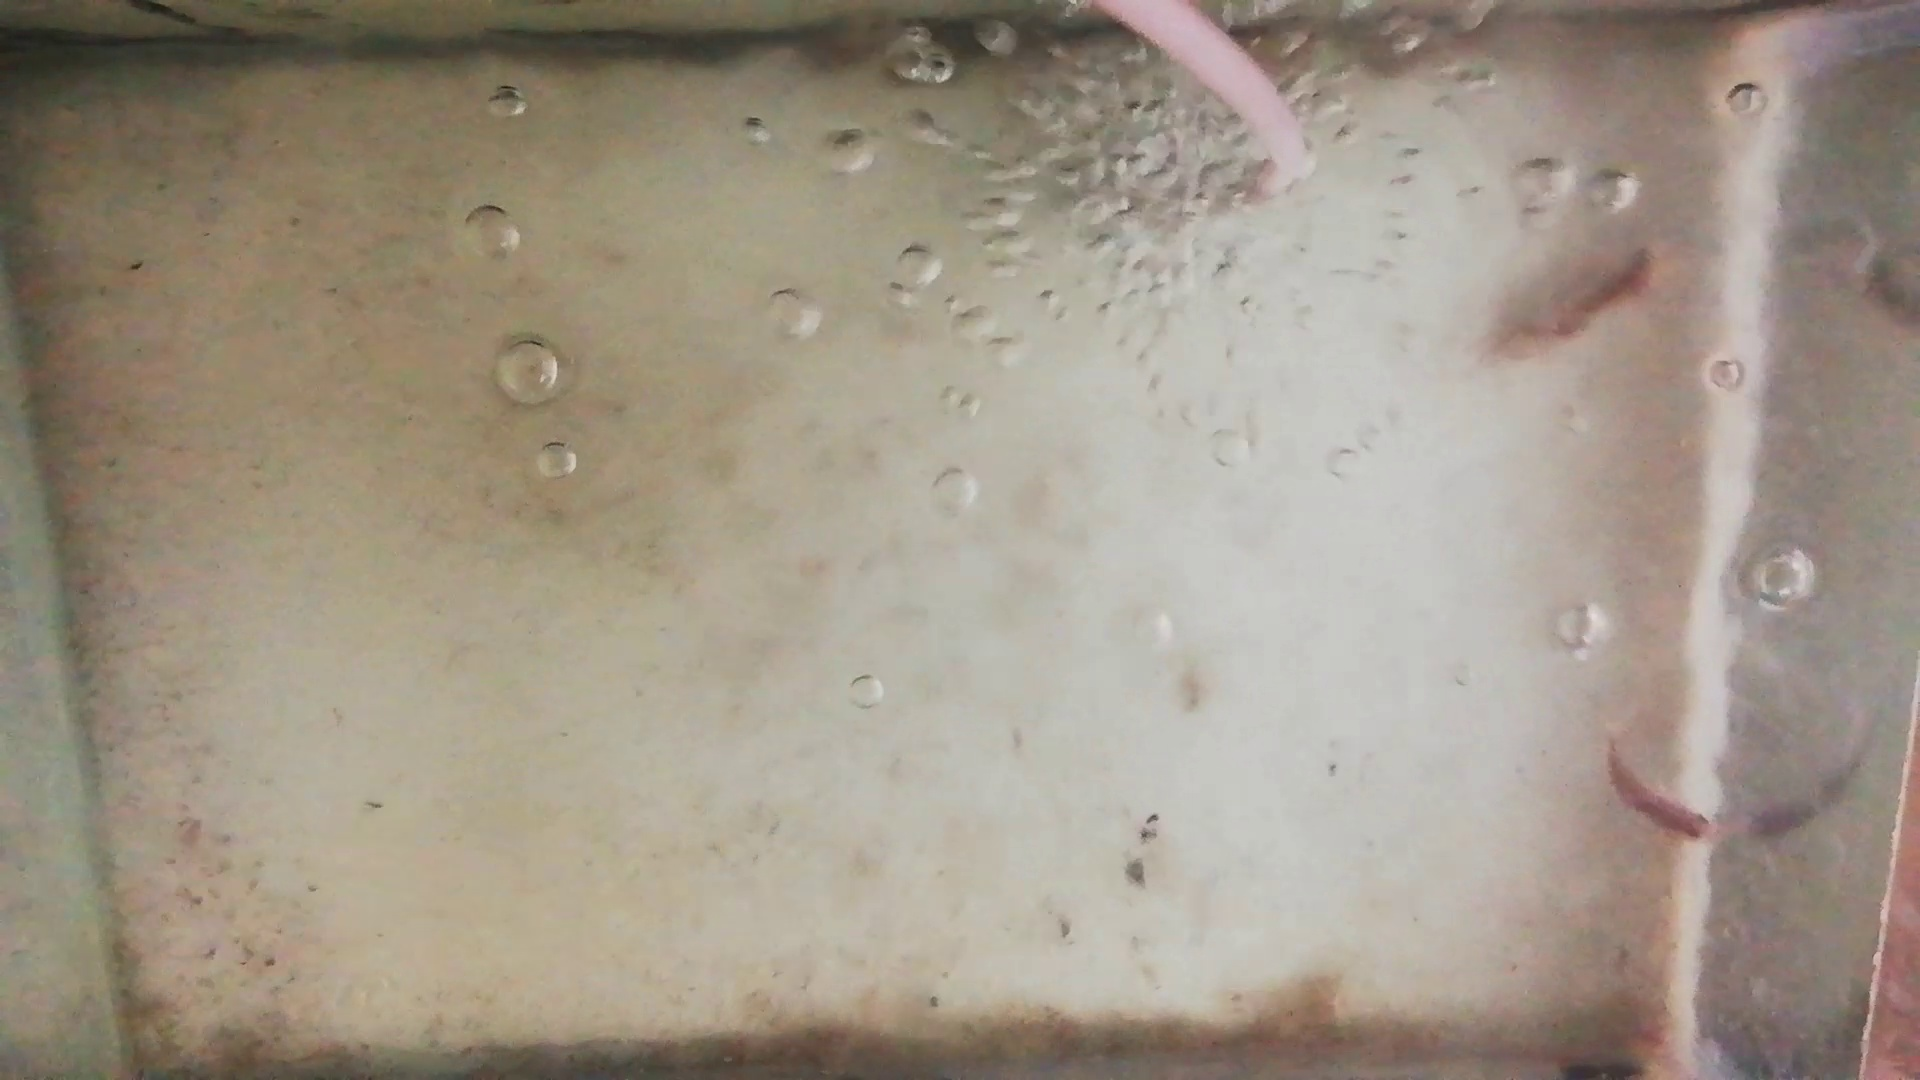fish: (1505, 241, 1662, 351), (1607, 736, 1714, 845)
